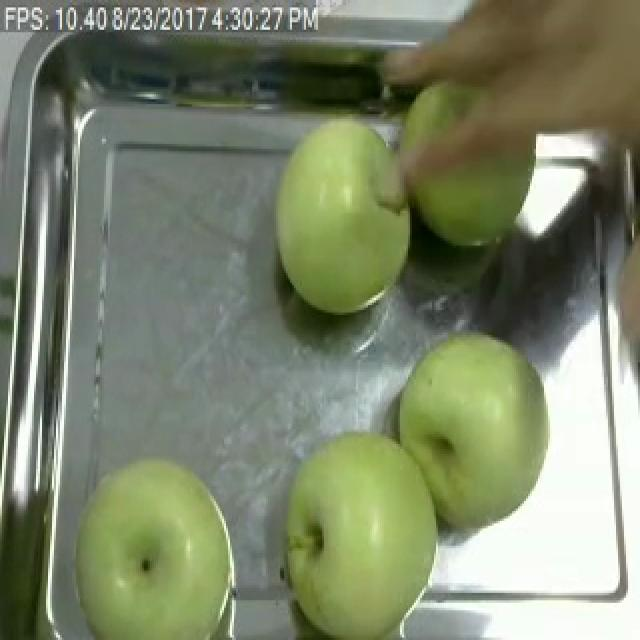50-_ripeness: (282, 424, 450, 614), (392, 341, 559, 519), (278, 120, 413, 309), (81, 464, 238, 626)
